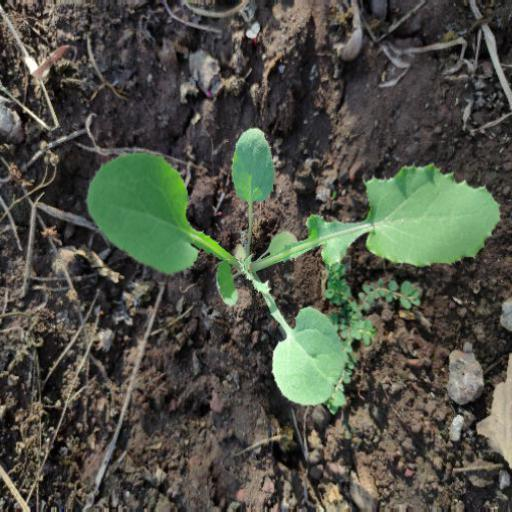weed: (72, 119, 506, 429)
